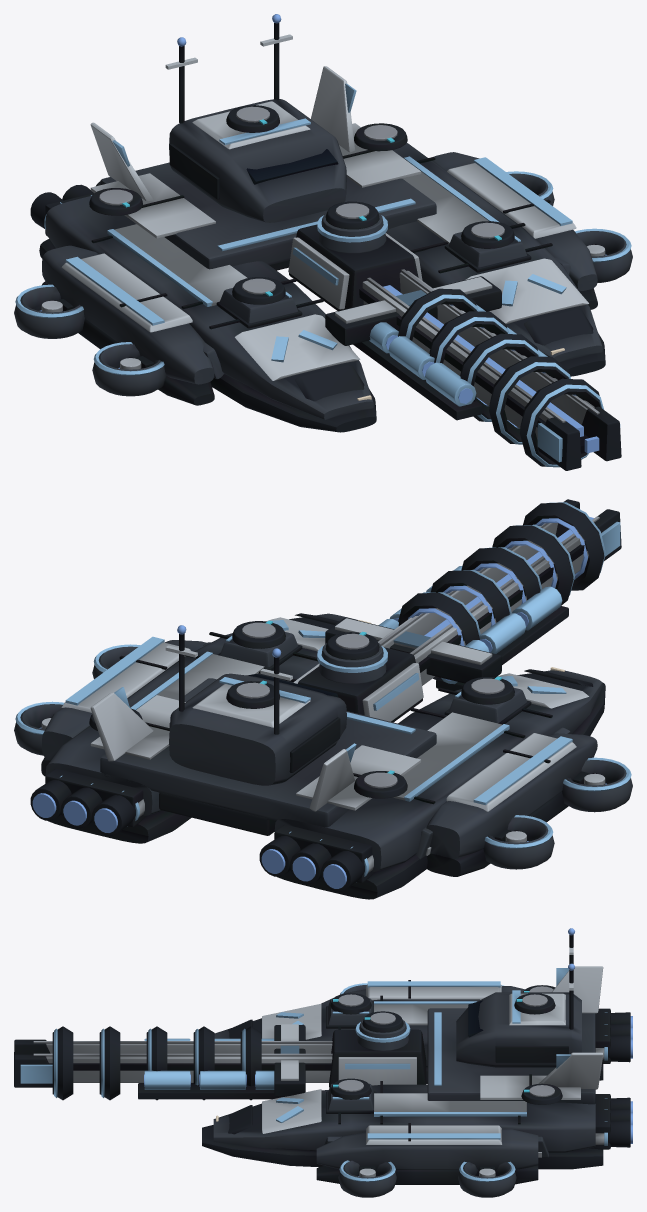
Rendered from ex_lancer_11.glb.
3 renders of one model, top to bottom at view 1: azimuth 30°, elevation 25°; view 2: azimuth 150°, elevation 25°; view 3: azimuth 270°, elevation 25°, orthographic. The views are drawn at different scales.
Parts seen in each view (by area): view 1: body; view 2: body; view 3: body.
Boxes of the visible parts, box(x1,y1,x2,y2) form: body: box(14, 14, 632, 470); body: box(14, 499, 632, 899); body: box(14, 928, 632, 1197).
Size of the model in its own units: 15.64 by 6.06 by 20.7.
